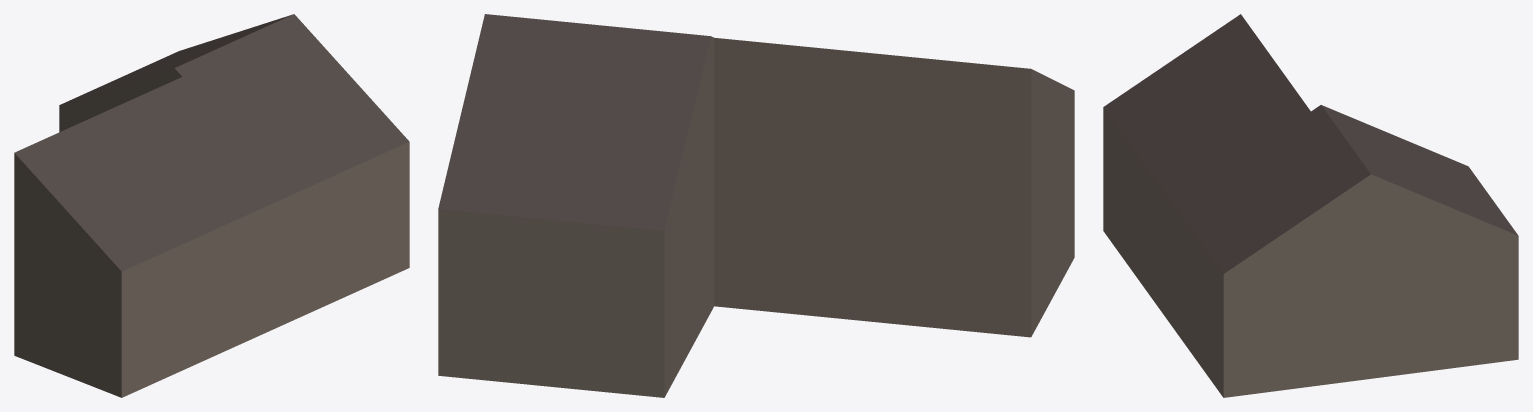
3 renders of one model, left to right at view 1: azimuth 30°, elevation 25°; view 2: azimuth 150°, elevation 25°; view 3: azimuth 270°, elevation 25°, orthographic. The views are drawn at different scales.
Visible parts, largest first — view 1: HP-w293414345; view 2: HP-w293414345; view 3: HP-w293414345.
Boxes of the visible parts, x1=… form: HP-w293414345: x1=14, y1=14, x2=409, y2=397; HP-w293414345: x1=438, y1=14, x2=1074, y2=397; HP-w293414345: x1=1103, y1=14, x2=1518, y2=397.
Bounding box in the file's own units: 28.84 × 14.88 × 27.39.
